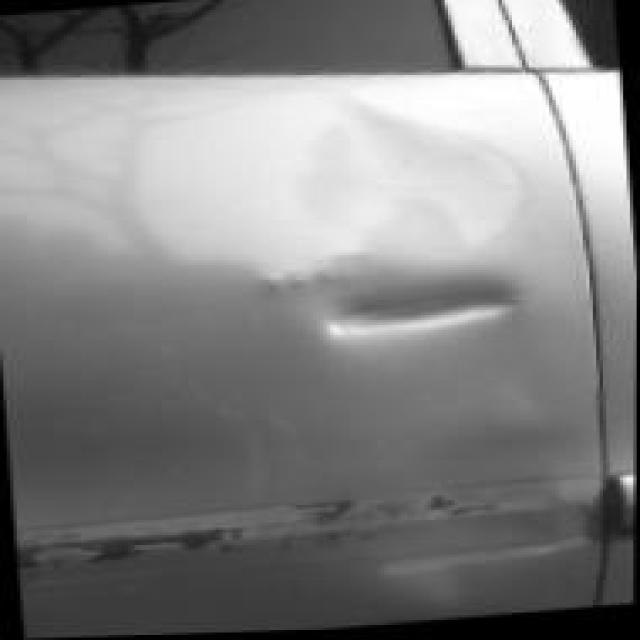Door: (0, 20, 640, 639)
